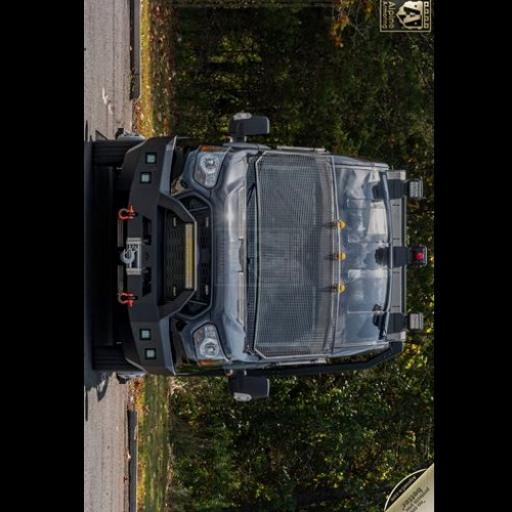van: (96, 110, 428, 398)
